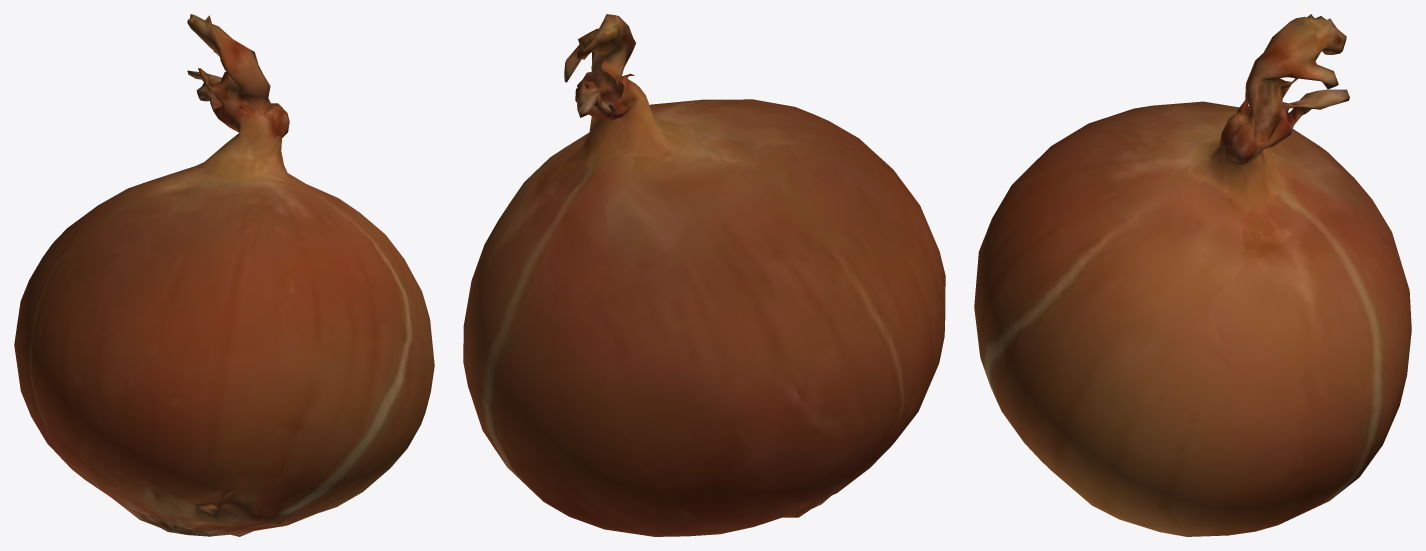
File: yellow_onion.glb
The picture shows the model from 3 angles, left to right: view 1: azimuth 30°, elevation 25°; view 2: azimuth 150°, elevation 25°; view 3: azimuth 270°, elevation 25°; orthographic projection. The views are drawn at different scales.
Parts seen in each view (by area): view 1: yellow_onion_lod0; view 2: yellow_onion_lod0; view 3: yellow_onion_lod0.
Part boxes in pixels (x1,y1,x2,y2): yellow_onion_lod0: (14, 14, 434, 536); yellow_onion_lod0: (463, 14, 945, 536); yellow_onion_lod0: (974, 14, 1411, 536).
Size of what is drawn, in the model's own units: 0.0724 by 0.0864 by 0.0688.
Materials: 1 (1 with a texture image).
